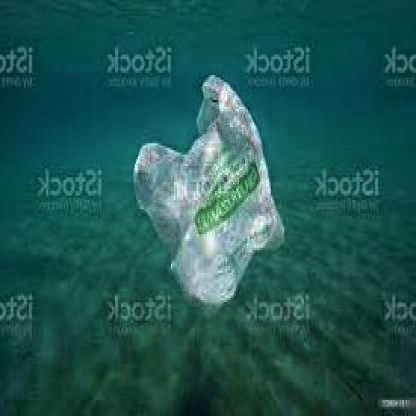pbag: (132, 73, 286, 318)
